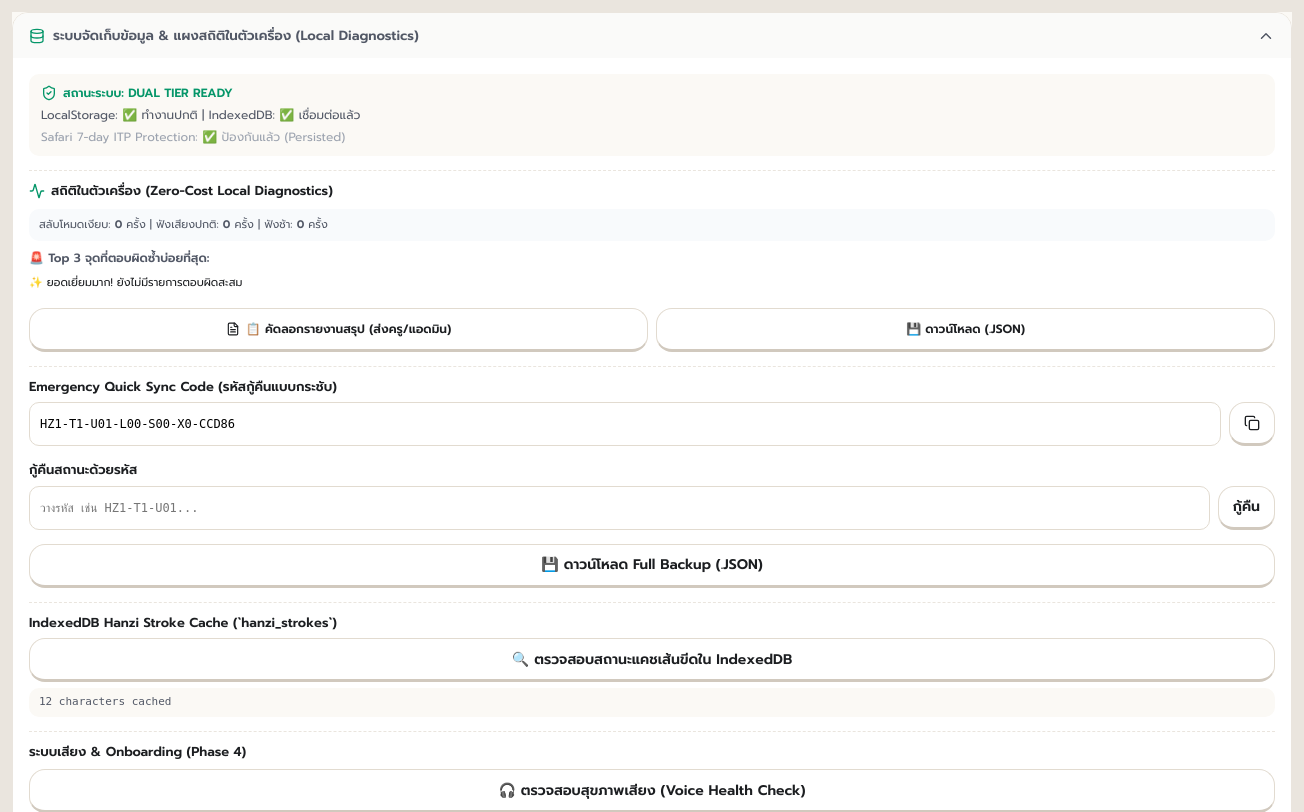
Test case: DevStorageDrawer Component (Technical QA Verification) › shows error feedback when all copy methods fail without false positive checkmark
Click the button with test id "btn-copy-diagnostics-md" at (338, 330), box [29,308,648,352]
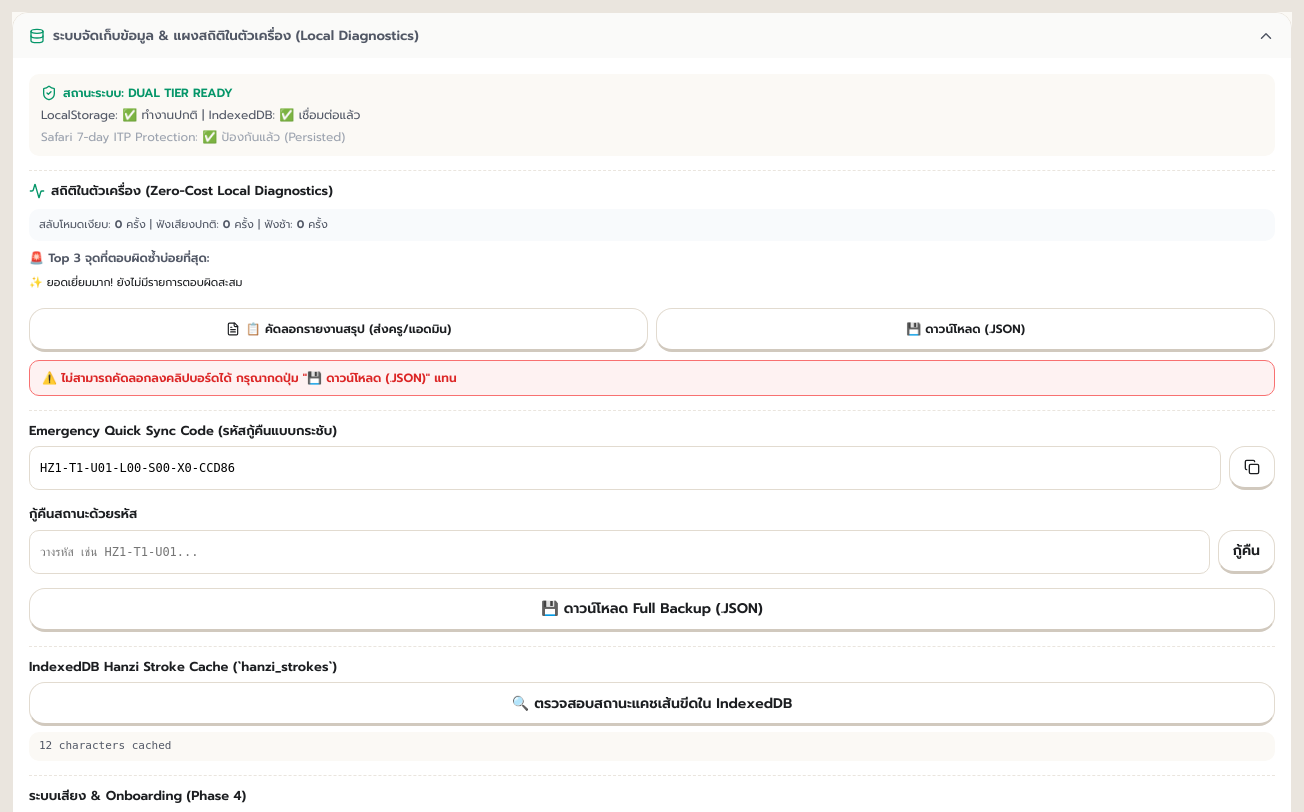
Expected: the text with test id "toast-copy-feedback" is shown, [29,360,1275,396]
Expected: the text "ไม่สามารถคัดลอกลงคลิปบอร์ดได้" is shown, [42,368,457,386]
